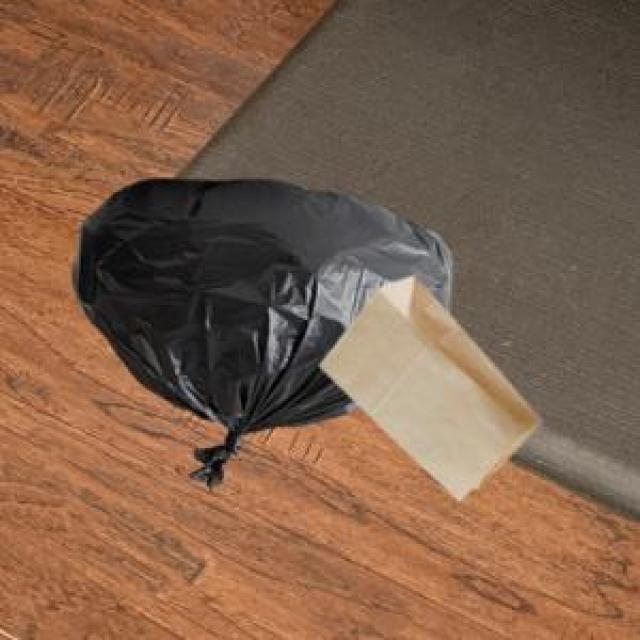miscellaneous trash: (68, 175, 448, 484)
paper: (316, 273, 536, 497)
